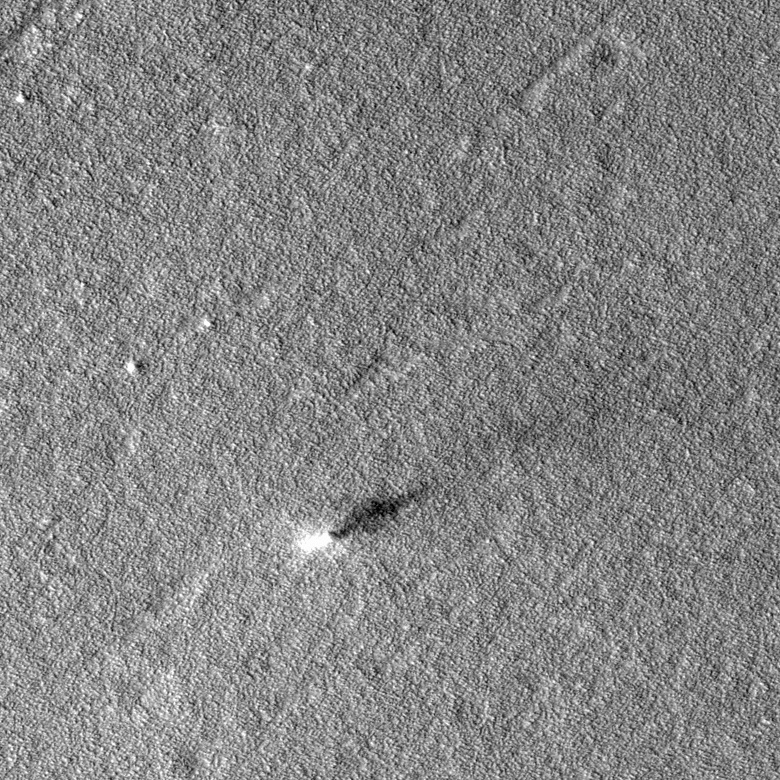dust_devil: (292, 485, 429, 559)
